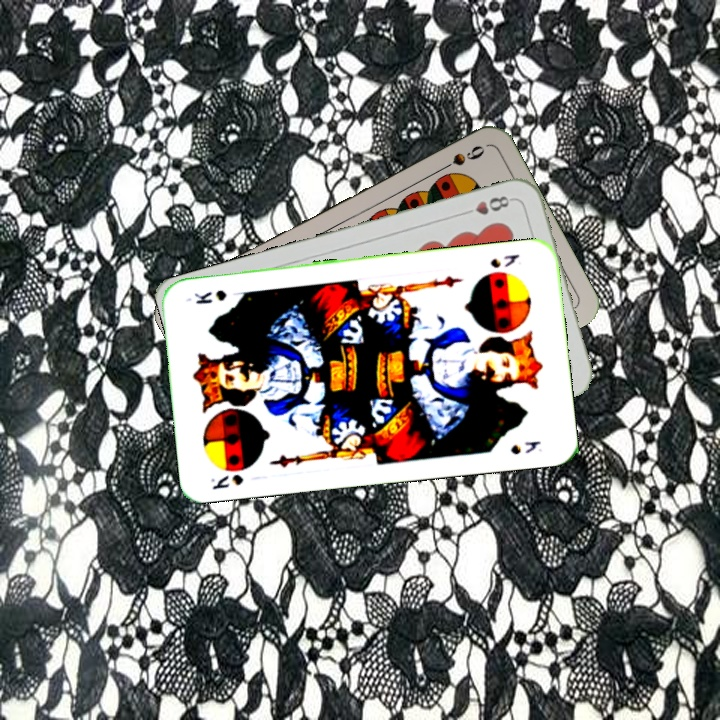H8: (458, 191, 516, 218)
S9: (432, 141, 488, 176)
SK: (207, 470, 246, 492), (486, 250, 522, 271)
